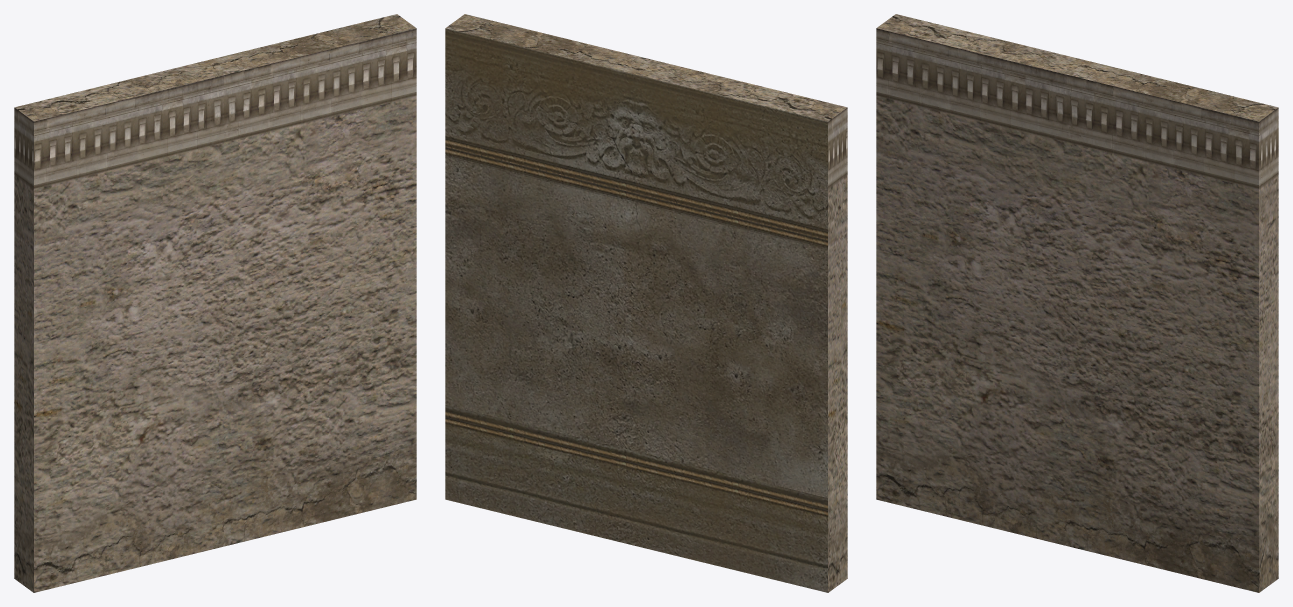
File: SH3D_Sparta_WallAlcove.obj
The picture shows the model from 3 angles, left to right: view 1: azimuth 30°, elevation 25°; view 2: azimuth 150°, elevation 25°; view 3: azimuth 330°, elevation 25°; orthographic projection.
Visible parts, largest first — view 1: SH3D_ExtWall0; view 2: SH3D_IntWall0, SH3D_ExtWall0; view 3: SH3D_ExtWall0.
Boxes of the visible parts, x1=… form: SH3D_ExtWall0: x1=14, y1=14, x2=416, y2=592; SH3D_IntWall0: x1=445, y1=28, x2=827, y2=592; SH3D_ExtWall0: x1=445, y1=14, x2=847, y2=592; SH3D_ExtWall0: x1=876, y1=14, x2=1278, y2=592.
Size of the model in its own units: 3.4 by 4 by 0.3.
